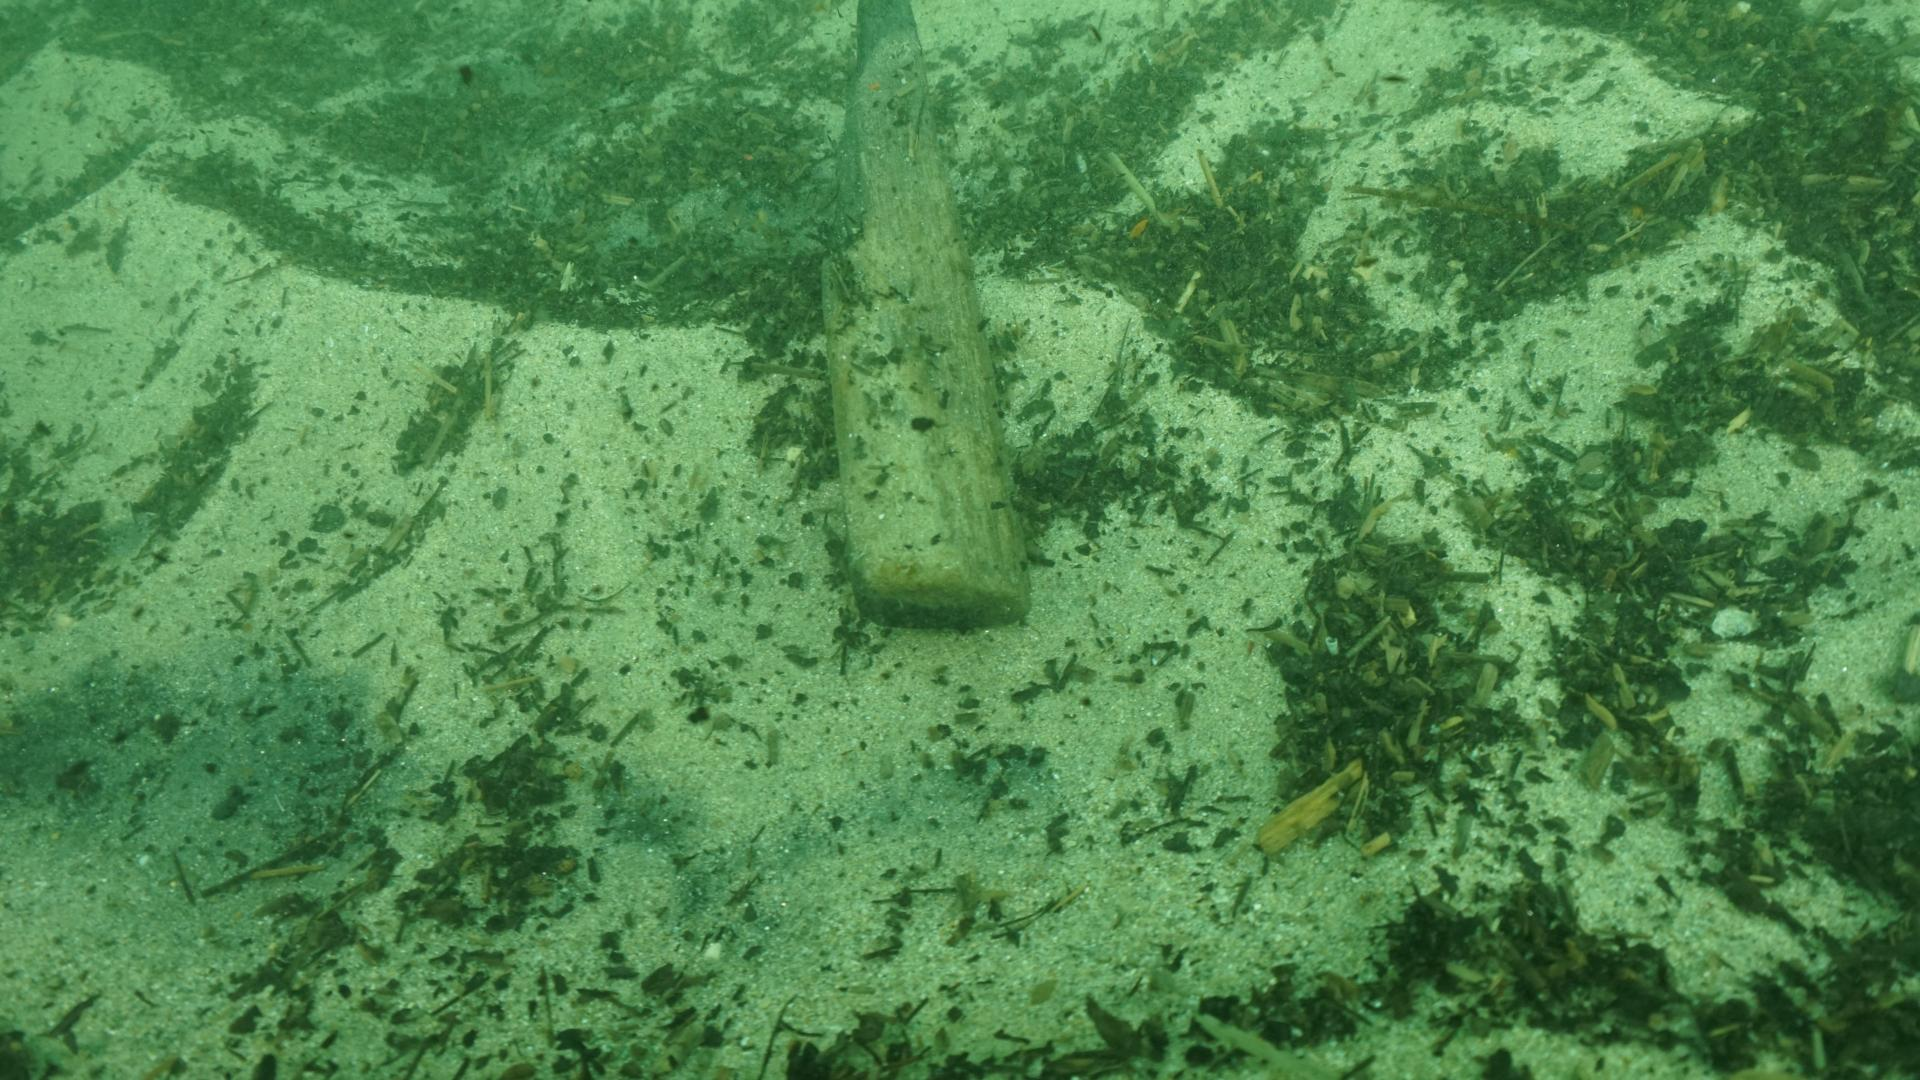wood: (811, 0, 1027, 622)
